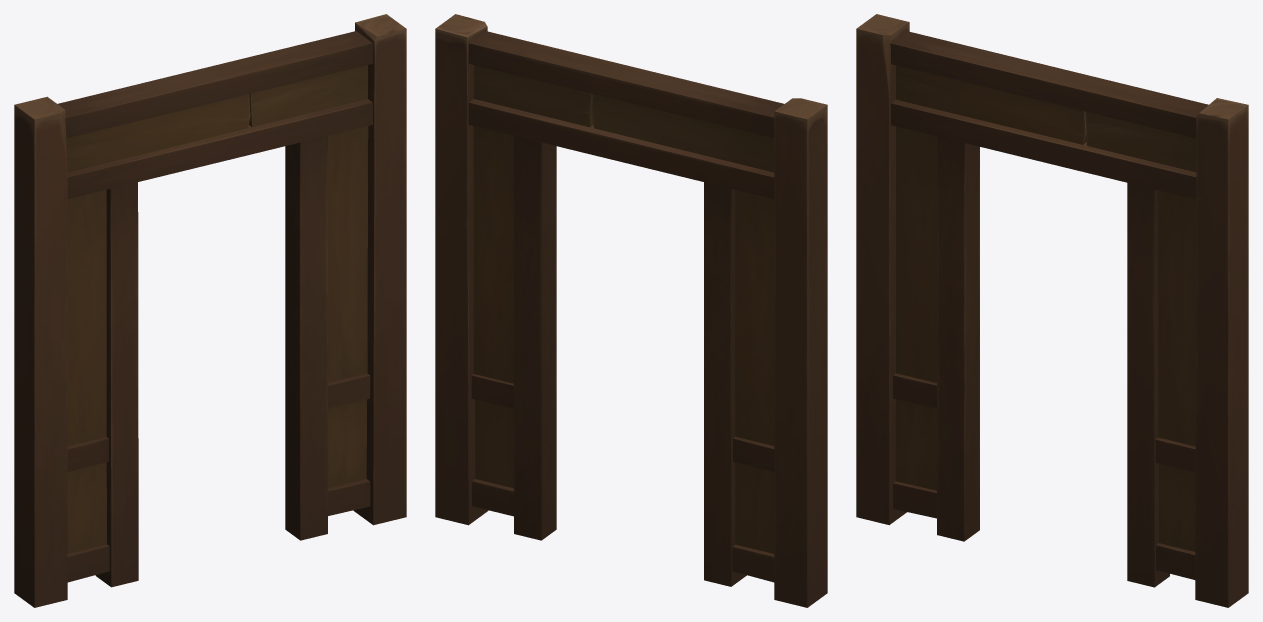
The model's file is Door02_w.FBX.
3 views of the same model, side by side, from view 1: azimuth 30°, elevation 25°; view 2: azimuth 150°, elevation 25°; view 3: azimuth 330°, elevation 25° (orthographic).
Visible parts, largest first — view 1: Object405; view 2: Object405; view 3: Object405.
Boxes of the visible parts, x1,y1,x2,y2 form: Object405: (14, 14, 406, 607); Object405: (435, 14, 827, 607); Object405: (856, 14, 1248, 607).
Size of the model in its own units: 2 by 2.51 by 0.1876.
Materials: 1 (1 with a texture image).
